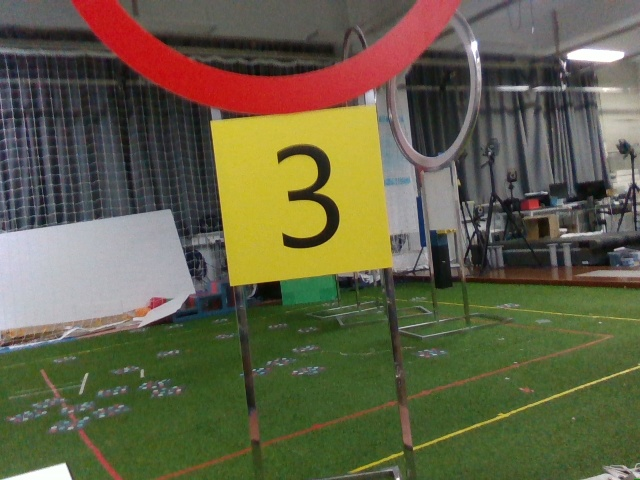target: (222, 123, 377, 268)
